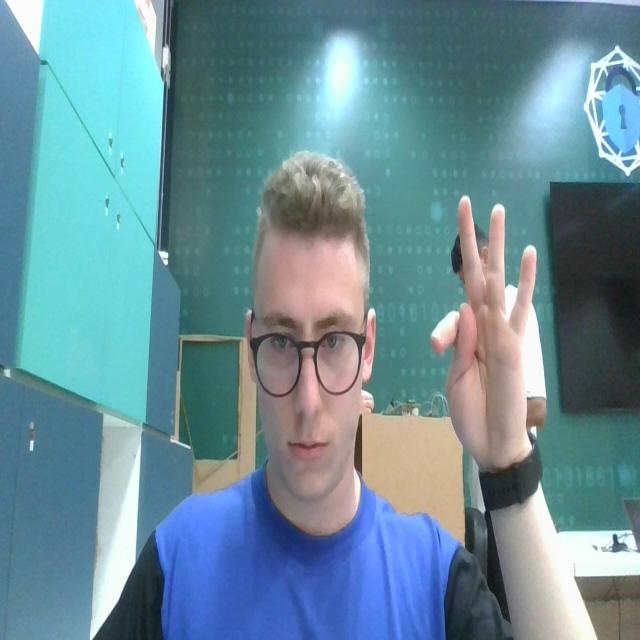T: (428, 194, 539, 466)
